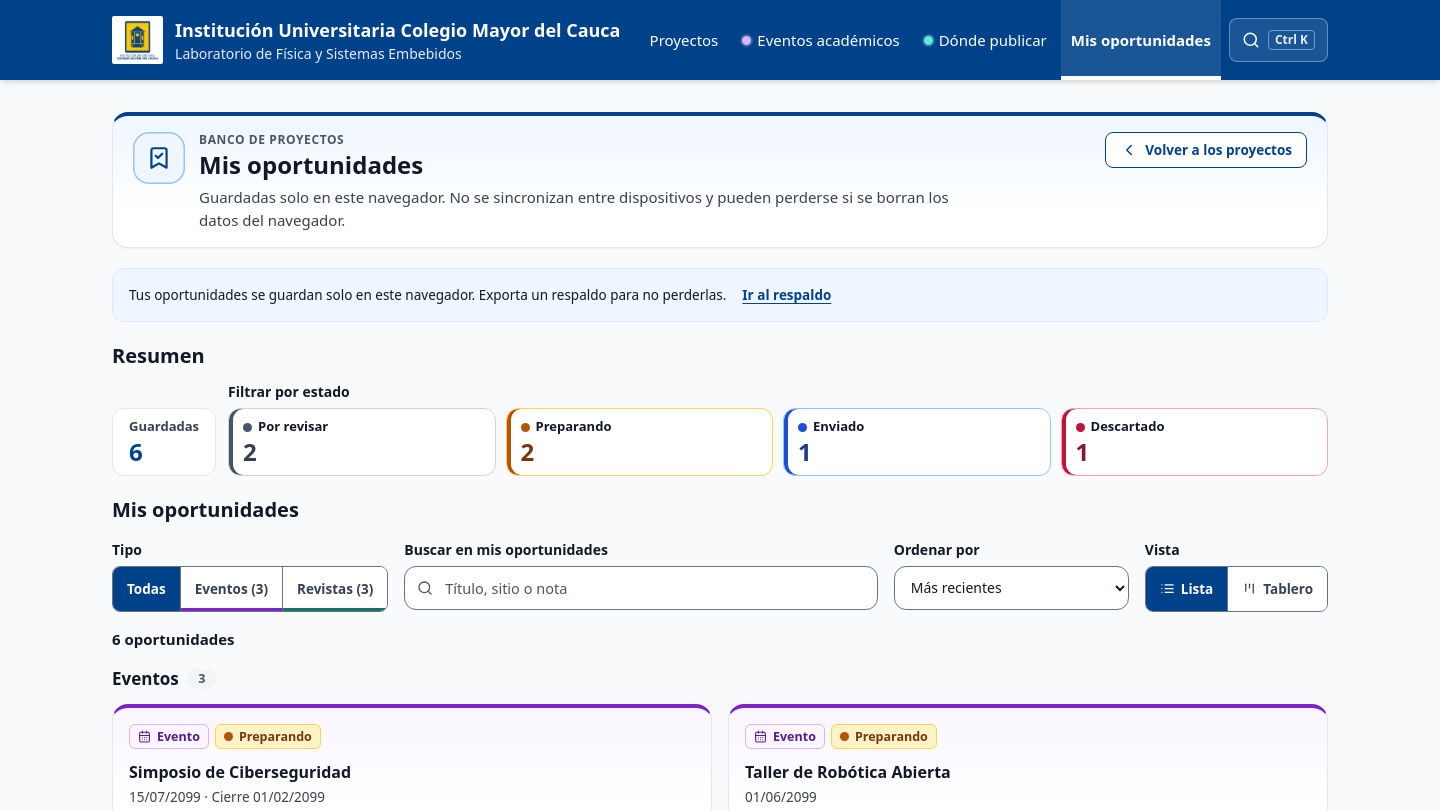
it: active filters › announces «N oportunidades» in a polite live region that follows the filters
Expected: the heading "Mis oportunidades" below "Banco de proyectos" is shown, [199,148,423,181]
Expected: the message reads "6 oportunidades", [112,629,234,649]
Click the button with aria-label "Enviado:" at (839, 426), box [783,408,1050,476]
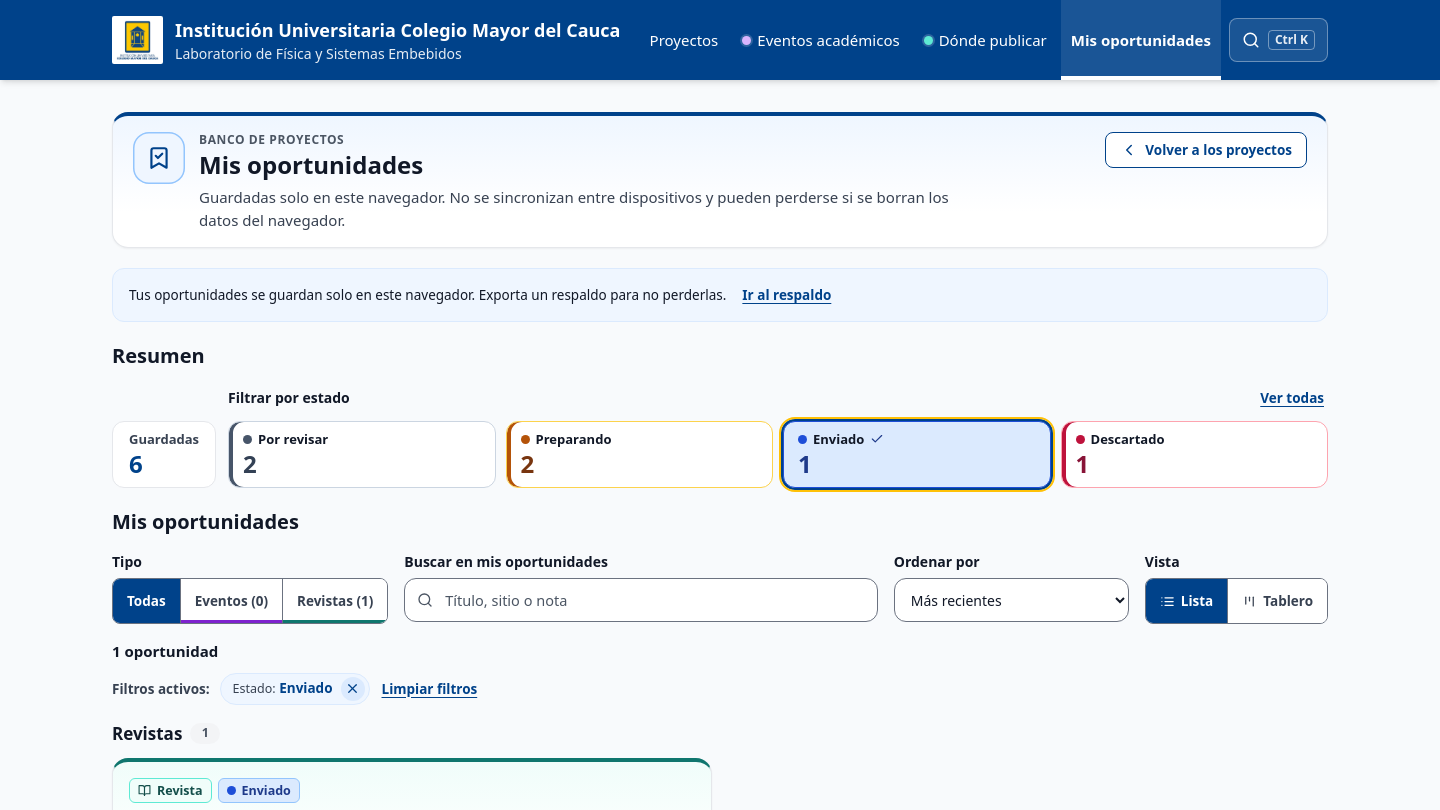
Result: the message reads "1 oportunidad" at [112,641,218,661]
